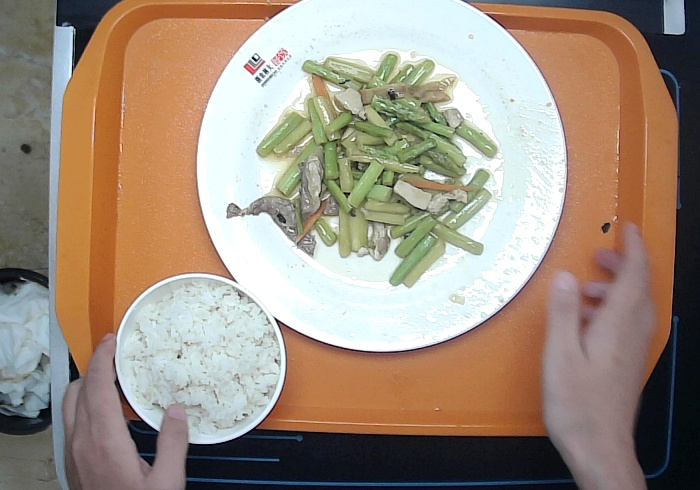ZNLD-Da_Yuan_Pan: (194, 1, 570, 355)
ZNLD-Fan_Wan: (111, 270, 288, 446)
